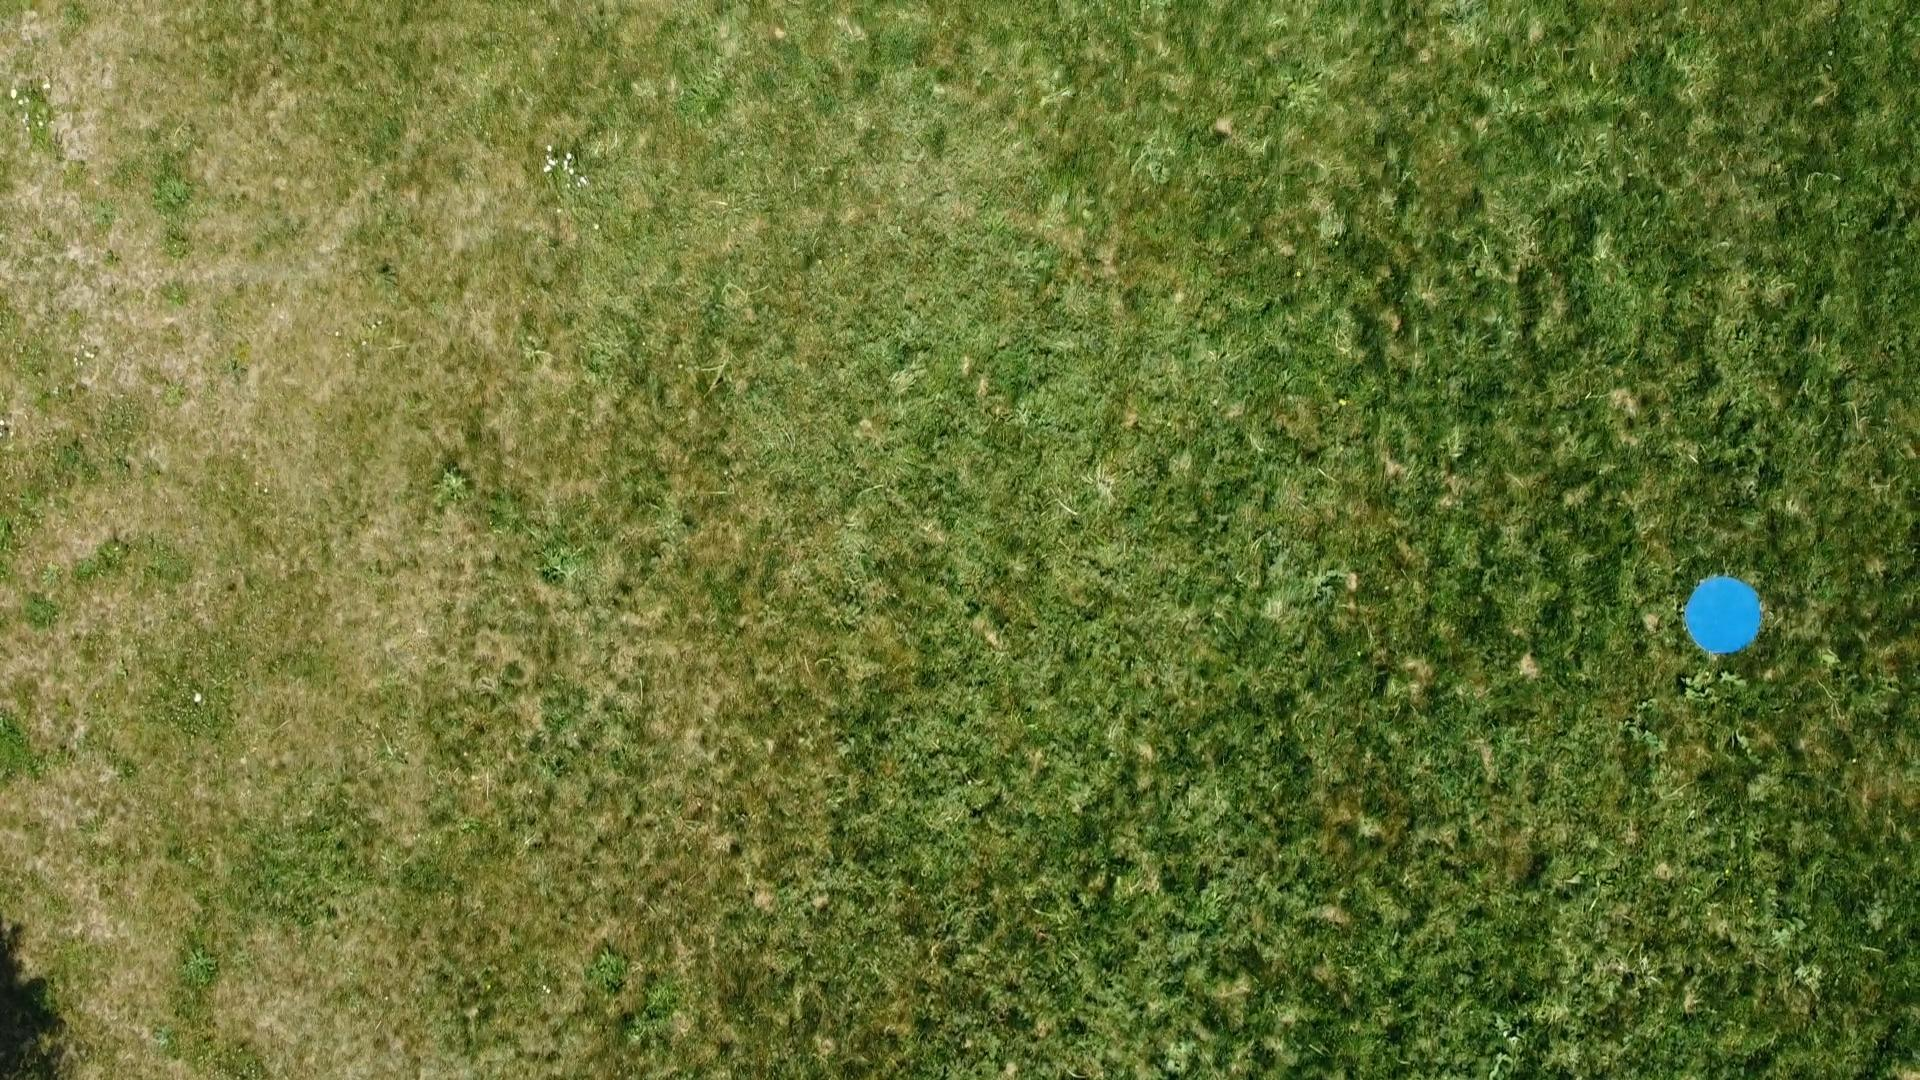Blue: (1681, 574, 1767, 657)
